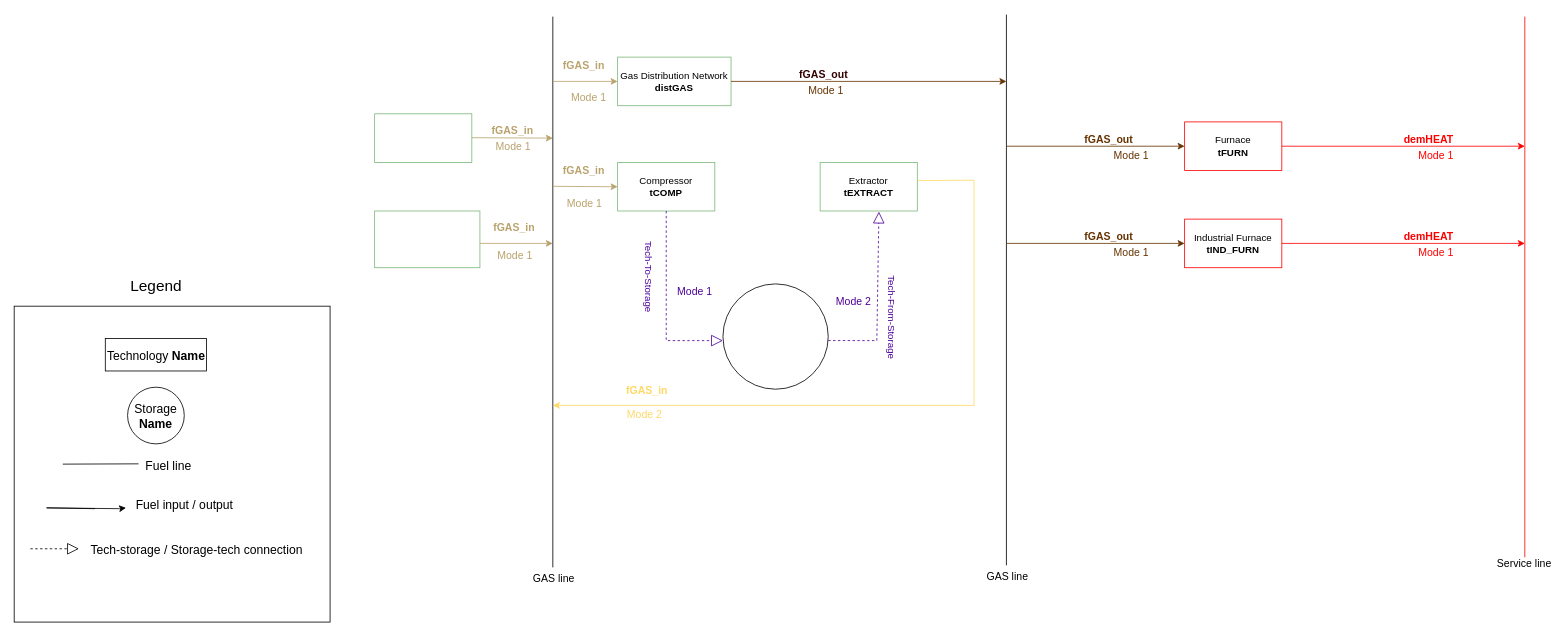
This 1565x636 diagram has some shape labels left out. Here are the shapes that lost their labels. From the top down, the centre of each, then its label:
At (x=423, y=137): "Natural Gas pNGAS".
At (x=427, y=239): "Renewable Natural Gas pRNGAS".
At (x=775, y=336): "Gas Storage Facility storGAS".
